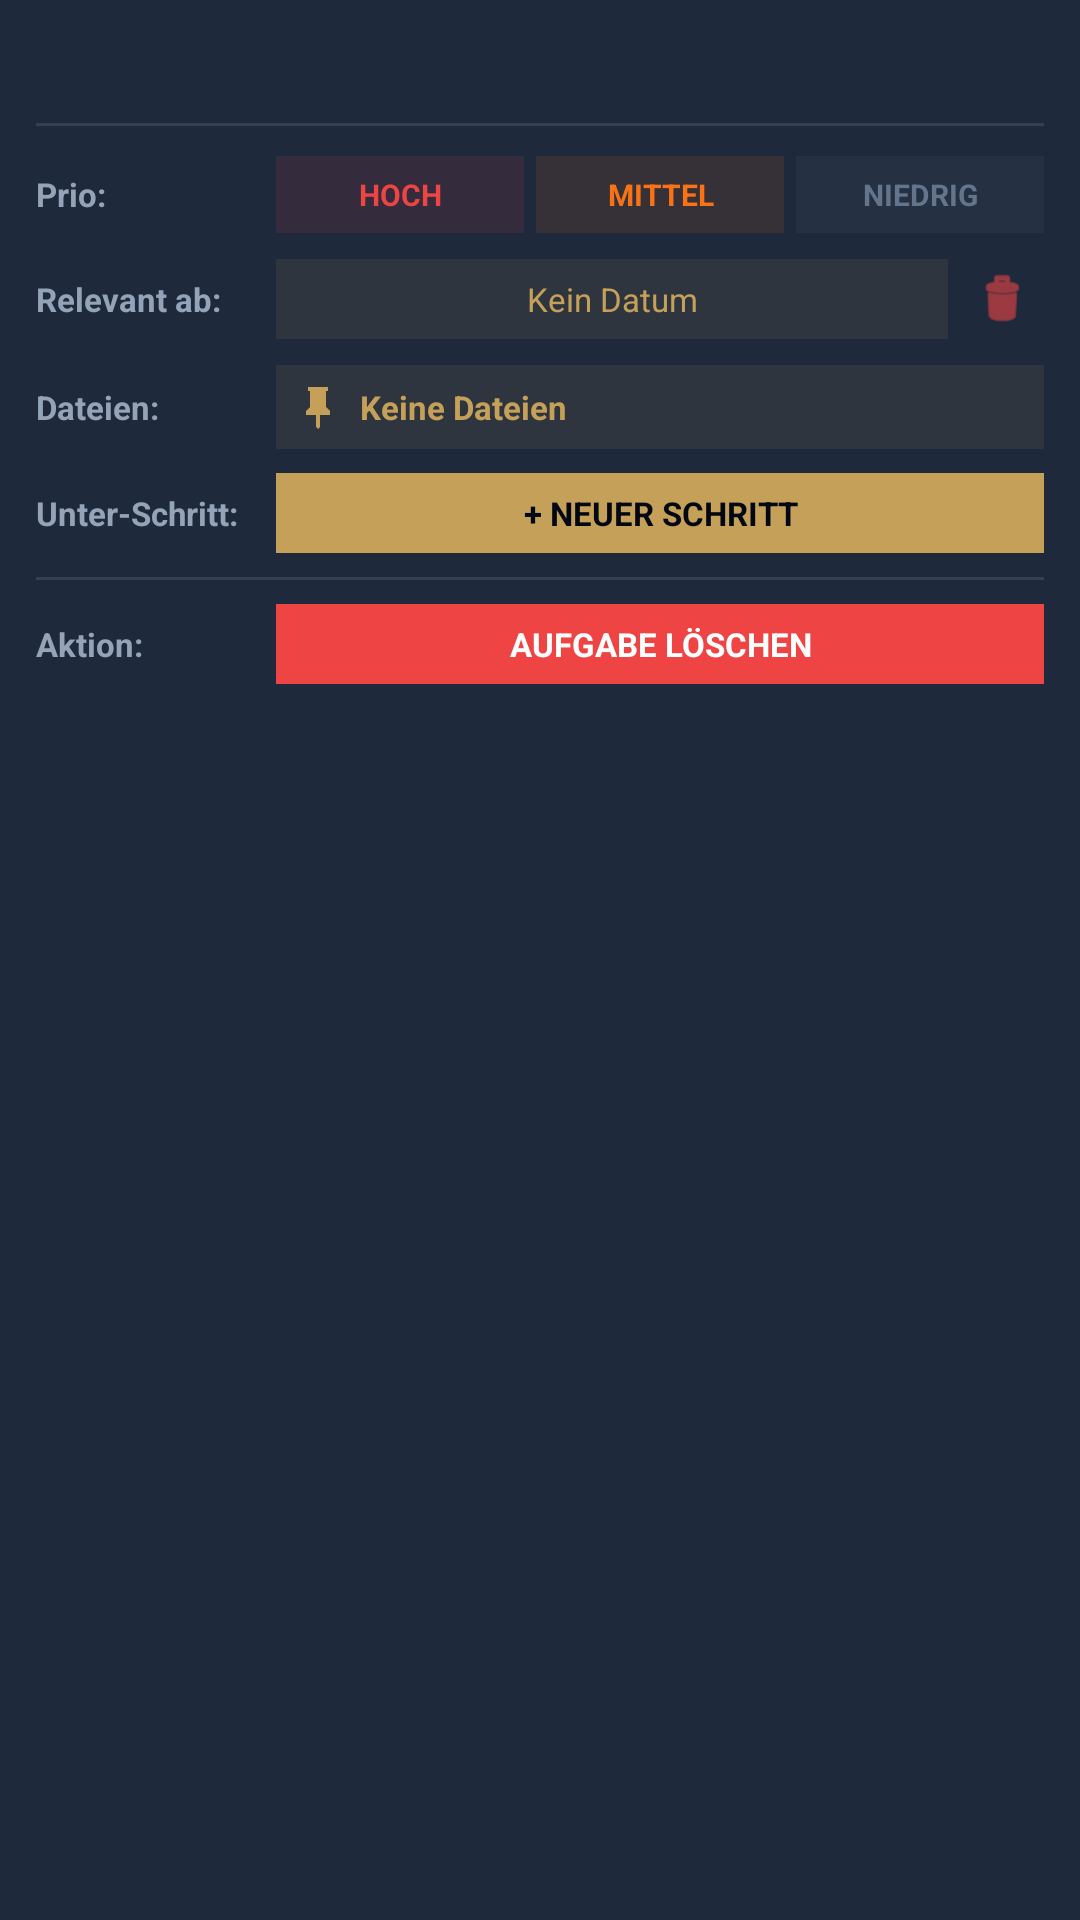

Icons on this 1080w x 1920h Android screen, each with the point to tap as [x,y]:
Datum löschen: [1002,298]
pin: [318,408]
